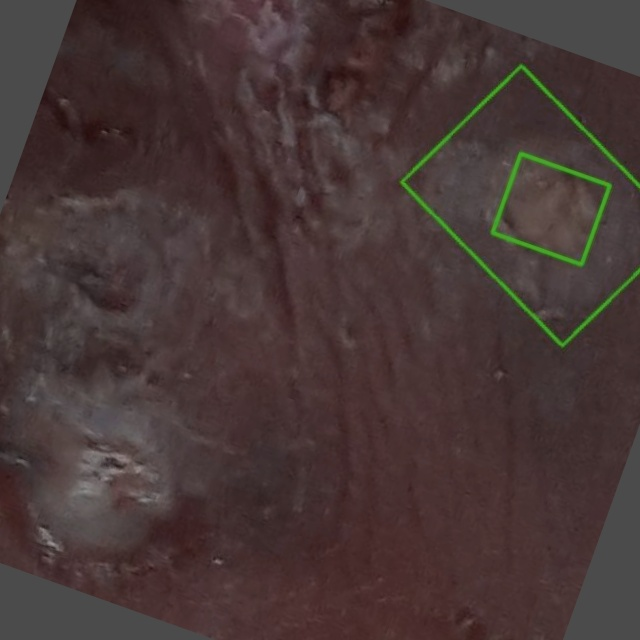Eczema: (402, 65, 639, 346), (492, 153, 609, 264)
